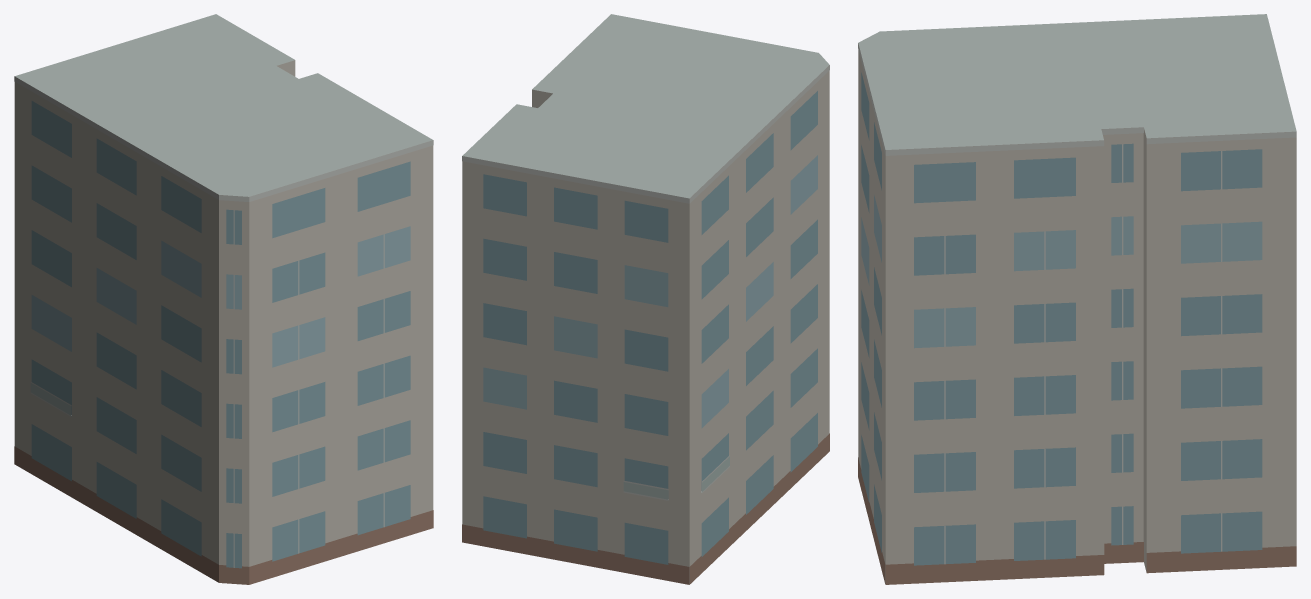
The model's file is survey-upis-32674503.glb.
3 renders of one model, left to right at view 1: azimuth 30°, elevation 25°; view 2: azimuth 150°, elevation 25°; view 3: azimuth 270°, elevation 25°, orthographic. The views are drawn at different scales.
Parts seen in each view (by area): view 1: survey-upis-32674503.tmp; view 2: survey-upis-32674503.tmp; view 3: survey-upis-32674503.tmp.
Boxes of the visible parts, left/top/right/bottom form: survey-upis-32674503.tmp: left=14, top=14, right=433, bottom=584; survey-upis-32674503.tmp: left=462, top=14, right=829, bottom=584; survey-upis-32674503.tmp: left=858, top=14, right=1296, bottom=584.
Size of the model in its own units: 12.02 by 17.9 by 16.37.
